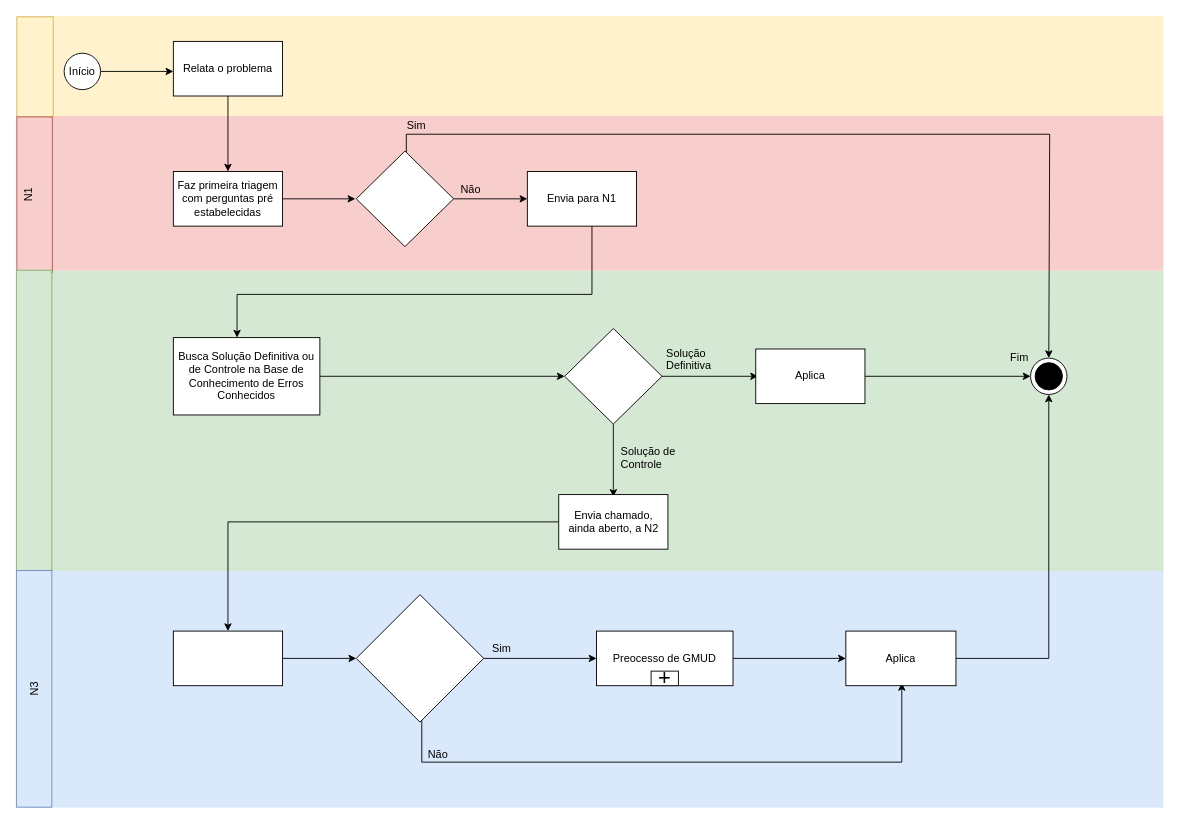
The diagram is 1178 pixels wide and 823 high, and some of its shapes have lost their labels. The centre of each missing label's shape, as x and y in pixels:
Analisa e busca a causa raíz: pixel 227 658
CLIENTE: pixel 34 66
N2: pixel 33 420
Resolveu problema?: pixel 404 198
Solução causa indisponibilidade no embiente?: pixel 419 658
Solução Definitiva ou de Controle?: pixel 613 376
